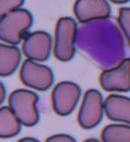L: (73, 17, 127, 70)
